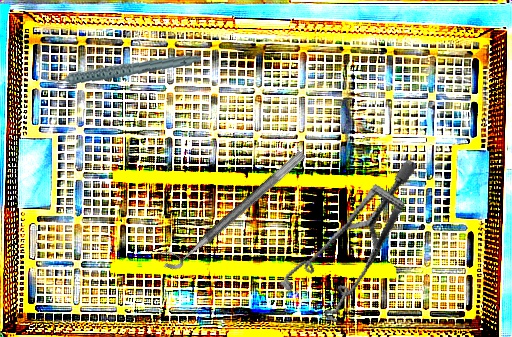Fixation Ring: (154, 139, 308, 276)
Handpiece: (41, 40, 202, 96)
Speculum: (253, 157, 458, 337)
